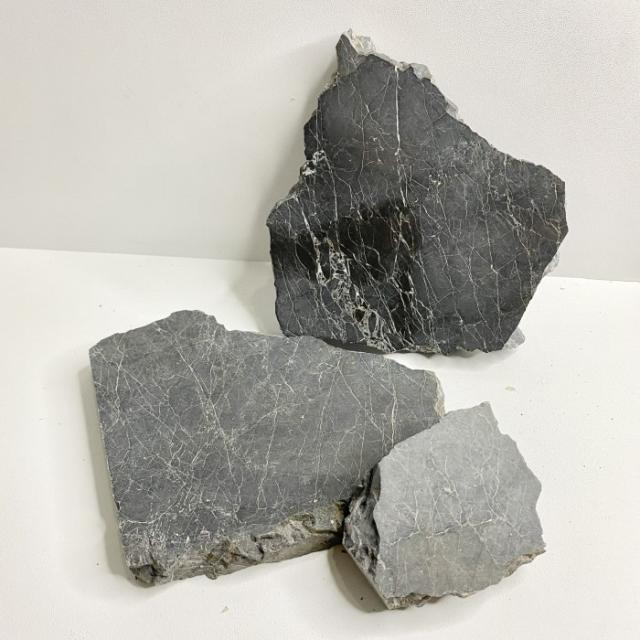Pecahan Agregat: (38, 26, 635, 606)
